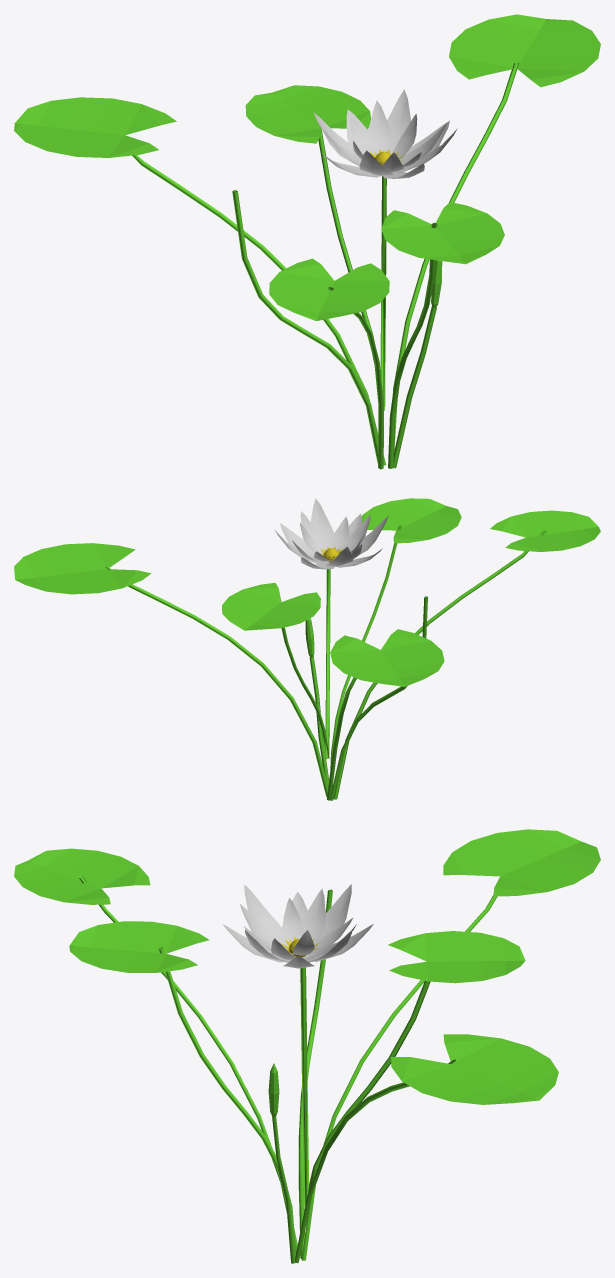
File: swamp_waterlily.fbx
3 renders of one model, top to bottom at view 1: azimuth 30°, elevation 25°; view 2: azimuth 150°, elevation 25°; view 3: azimuth 270°, elevation 25°, orthographic. The views are drawn at different scales.
Parts seen in each view (by area): view 1: Nymphea_Stalk.001, Nymphea; view 2: Nymphea_Stalk.001, Nymphea; view 3: Nymphea_Stalk.001, Nymphea.
Boxes of the visible parts, x1,y1,x2,y2 form: Nymphea_Stalk.001: (14,14,600,469); Nymphea: (313,89,457,178); Nymphea_Stalk.001: (14,498,600,800); Nymphea: (275,498,388,569); Nymphea_Stalk.001: (14,829,600,1263); Nymphea: (223,884,373,968).
Bounding box in the file's own units: 2.04 × 1.24 × 1.87.
